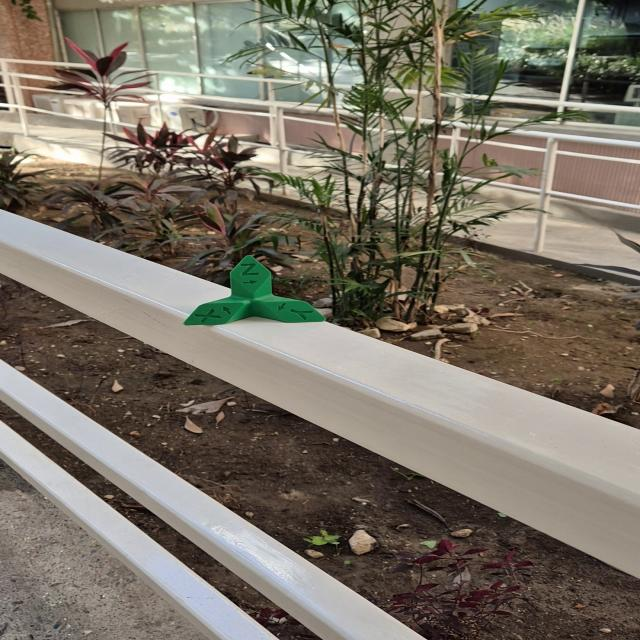objects: (181, 254, 328, 327)
